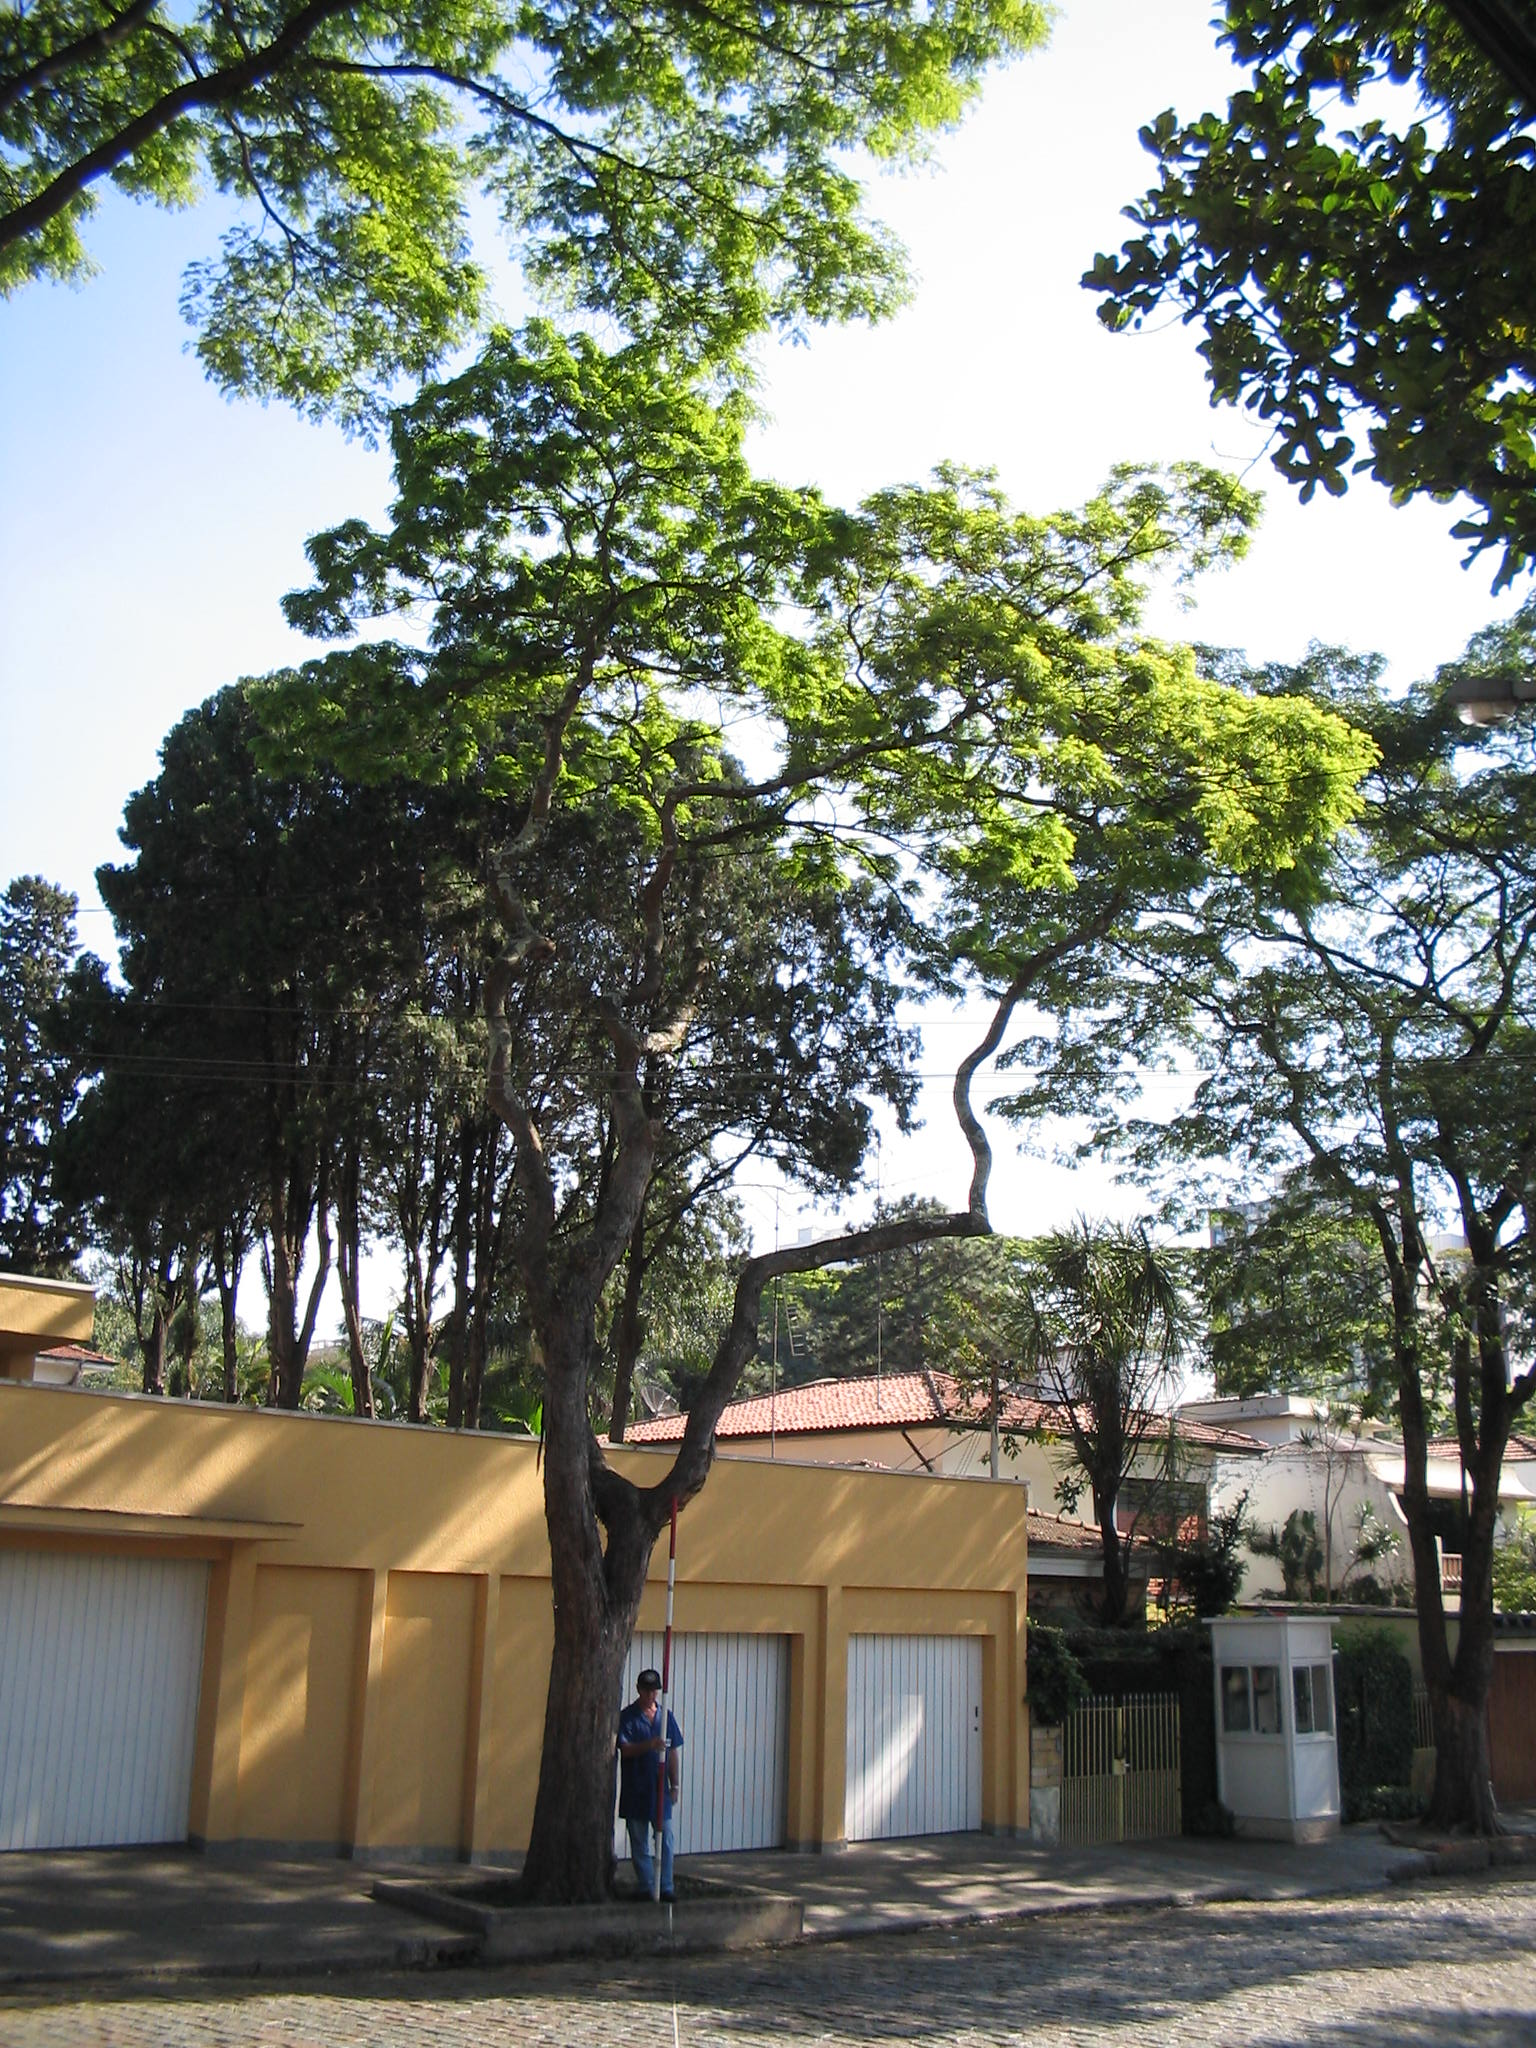crown: (294, 313, 1375, 1026)
stem: (495, 1566, 653, 1904), (1402, 1703, 1520, 1840)
stick: (634, 1503, 695, 1901)
tree: (282, 305, 1383, 1913), (1157, 640, 1533, 1840)
